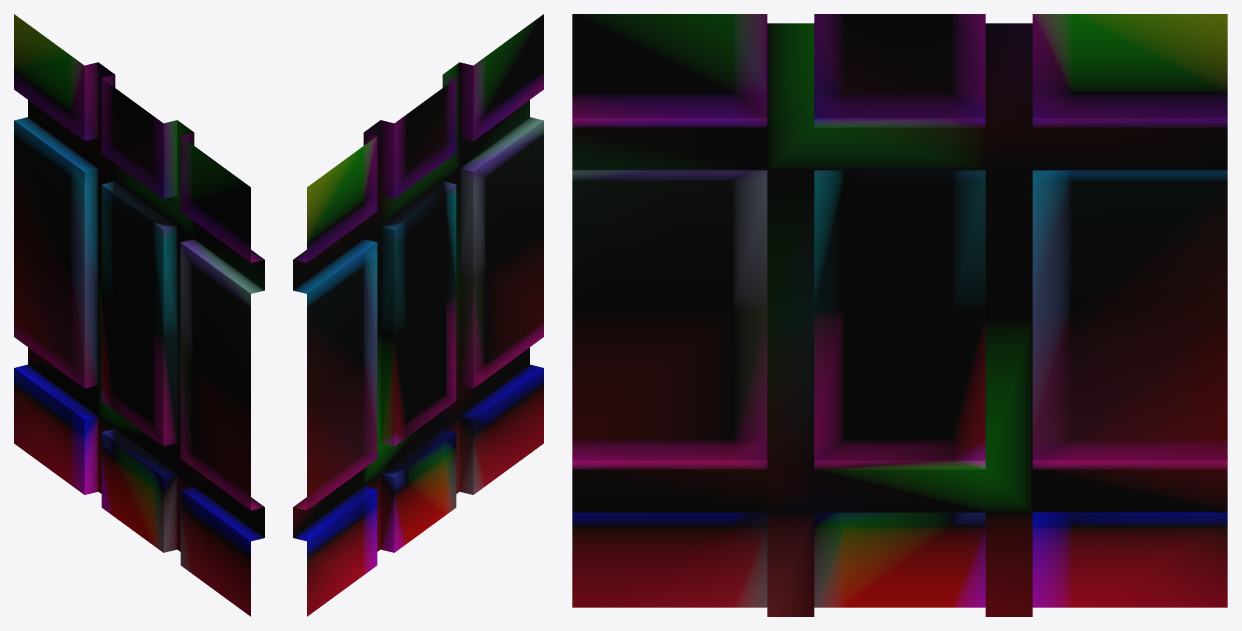
File: WallSection_Test_01_Colortweak_Black.fbx
The picture shows the model from 3 angles, left to right: view 1: azimuth 30°, elevation 25°; view 2: azimuth 150°, elevation 25°; view 3: azimuth 270°, elevation 25°; orthographic projection. The views are drawn at different scales.
Visible parts, largest first — view 1: Wall_Section_test_color_Tweak_Blacked; view 2: Wall_Section_test_color_Tweak_Blacked; view 3: Wall_Section_test_color_Tweak_Blacked.
Part boxes in pixels (x1,y1,x2,y2): Wall_Section_test_color_Tweak_Blacked: [14, 14, 264, 616]; Wall_Section_test_color_Tweak_Blacked: [293, 14, 543, 616]; Wall_Section_test_color_Tweak_Blacked: [572, 14, 1227, 616].
Bounding box in the file's own units: 20.7 × 617 × 617.
